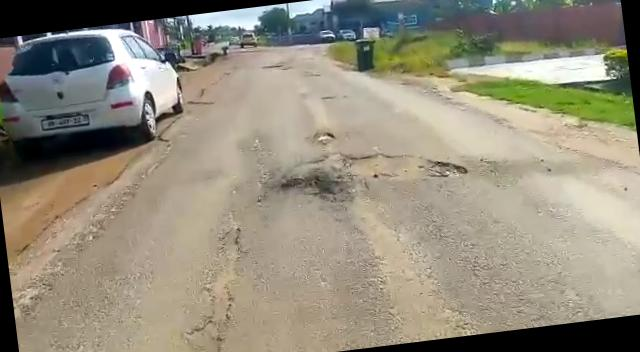pothole: (310, 139, 477, 193), (312, 130, 343, 146)
